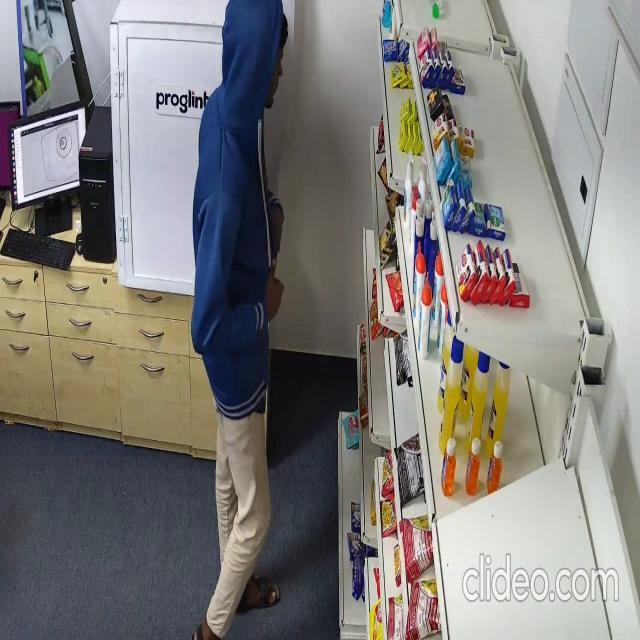Shoplifting: (185, 0, 295, 640)
